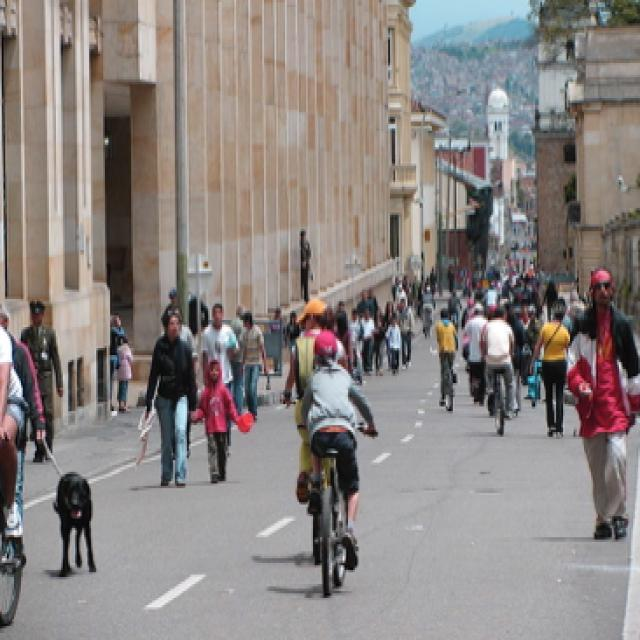Helmet: (309, 324, 341, 366)
